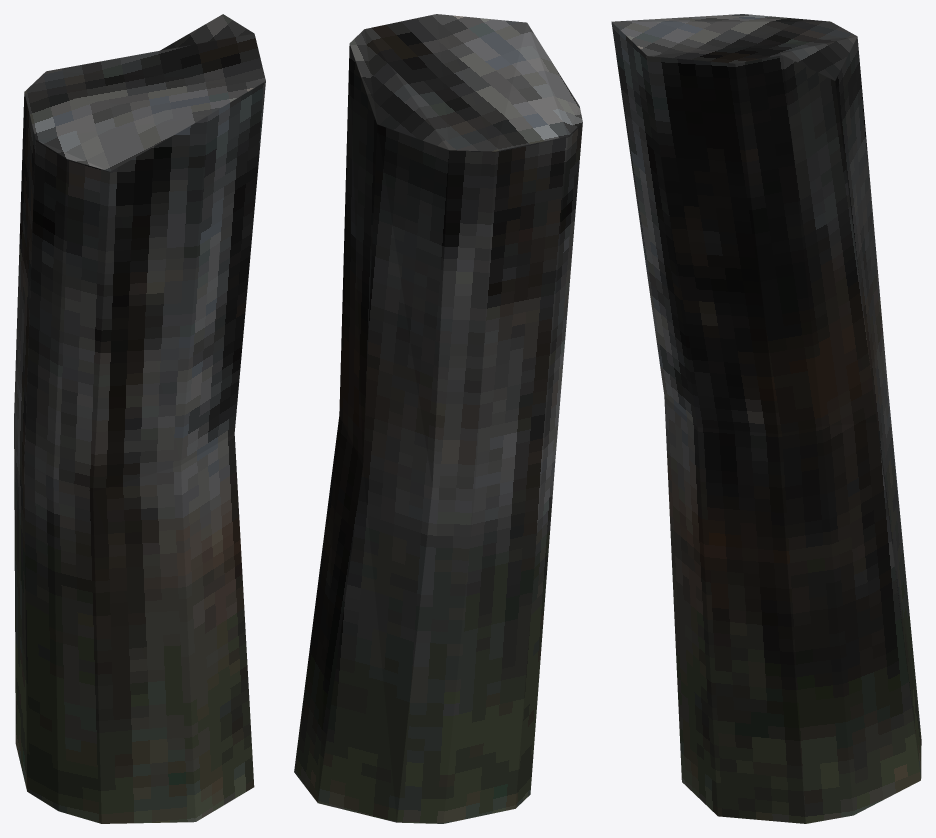
The model's file is big_fence_Leg_04.glb.
3 renders of one model, left to right at view 1: azimuth 30°, elevation 25°; view 2: azimuth 150°, elevation 25°; view 3: azimuth 270°, elevation 25°, orthographic. The views are drawn at different scales.
Visible parts, largest first — view 1: big_fence_Leg_04; view 2: big_fence_Leg_04; view 3: big_fence_Leg_04.
Part boxes in pixels (x1,y1,x2,y2): big_fence_Leg_04: (14, 14, 265, 823); big_fence_Leg_04: (294, 14, 582, 823); big_fence_Leg_04: (611, 14, 921, 823).
Size of the model in its own units: 0.7589 by 2.29 by 0.8424.
Materials: 1 (1 with a texture image).
